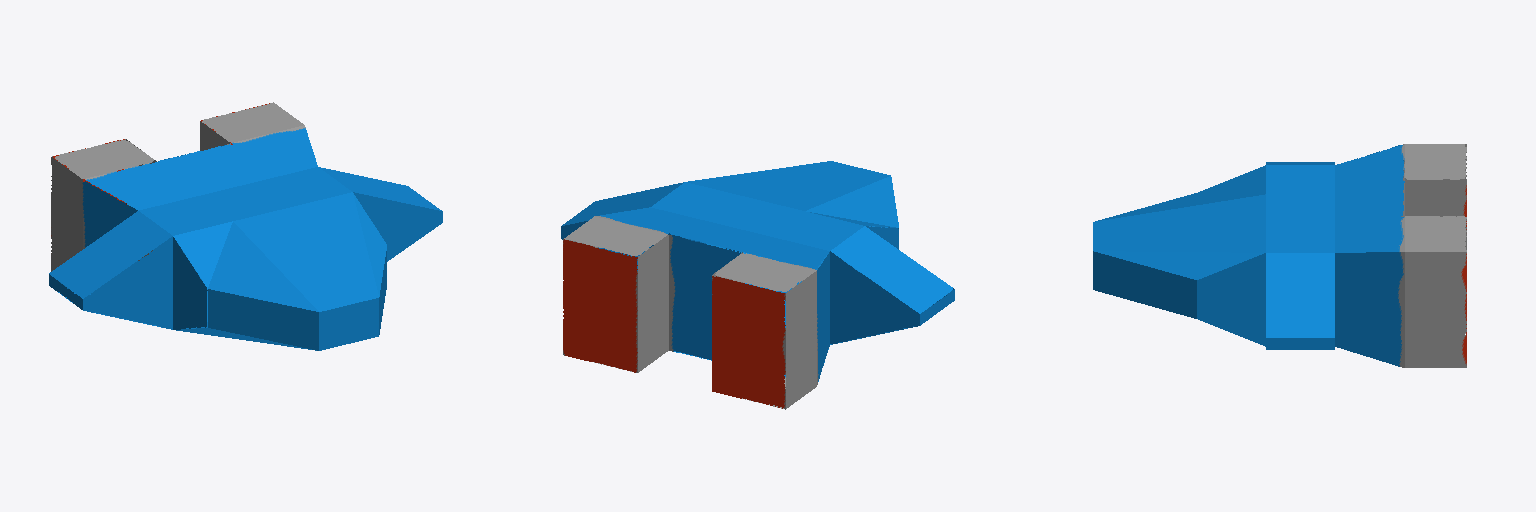
3 views of the same model, side by side, from view 1: azimuth 30°, elevation 25°; view 2: azimuth 150°, elevation 25°; view 3: azimuth 270°, elevation 25° (orthographic).
Parts seen in each view (by area): view 1: Cube; view 2: Cube; view 3: Cube.
Part boxes in pixels (left/top/right/bottom): Cube: left=49, top=102, right=442, bottom=350; Cube: left=561, top=161, right=954, bottom=409; Cube: left=1093, top=144, right=1466, bottom=367.
Size of the model in its own units: 4 by 1.24 by 3.6.
Materials: 1 (1 with a texture image).